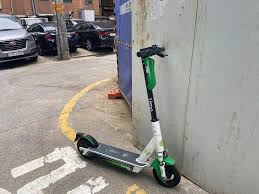kick_board: (77, 44, 179, 185)
kick_handler: (141, 60, 163, 147), (136, 46, 167, 57)
kick_wheel: (150, 156, 180, 186), (75, 133, 95, 157)
